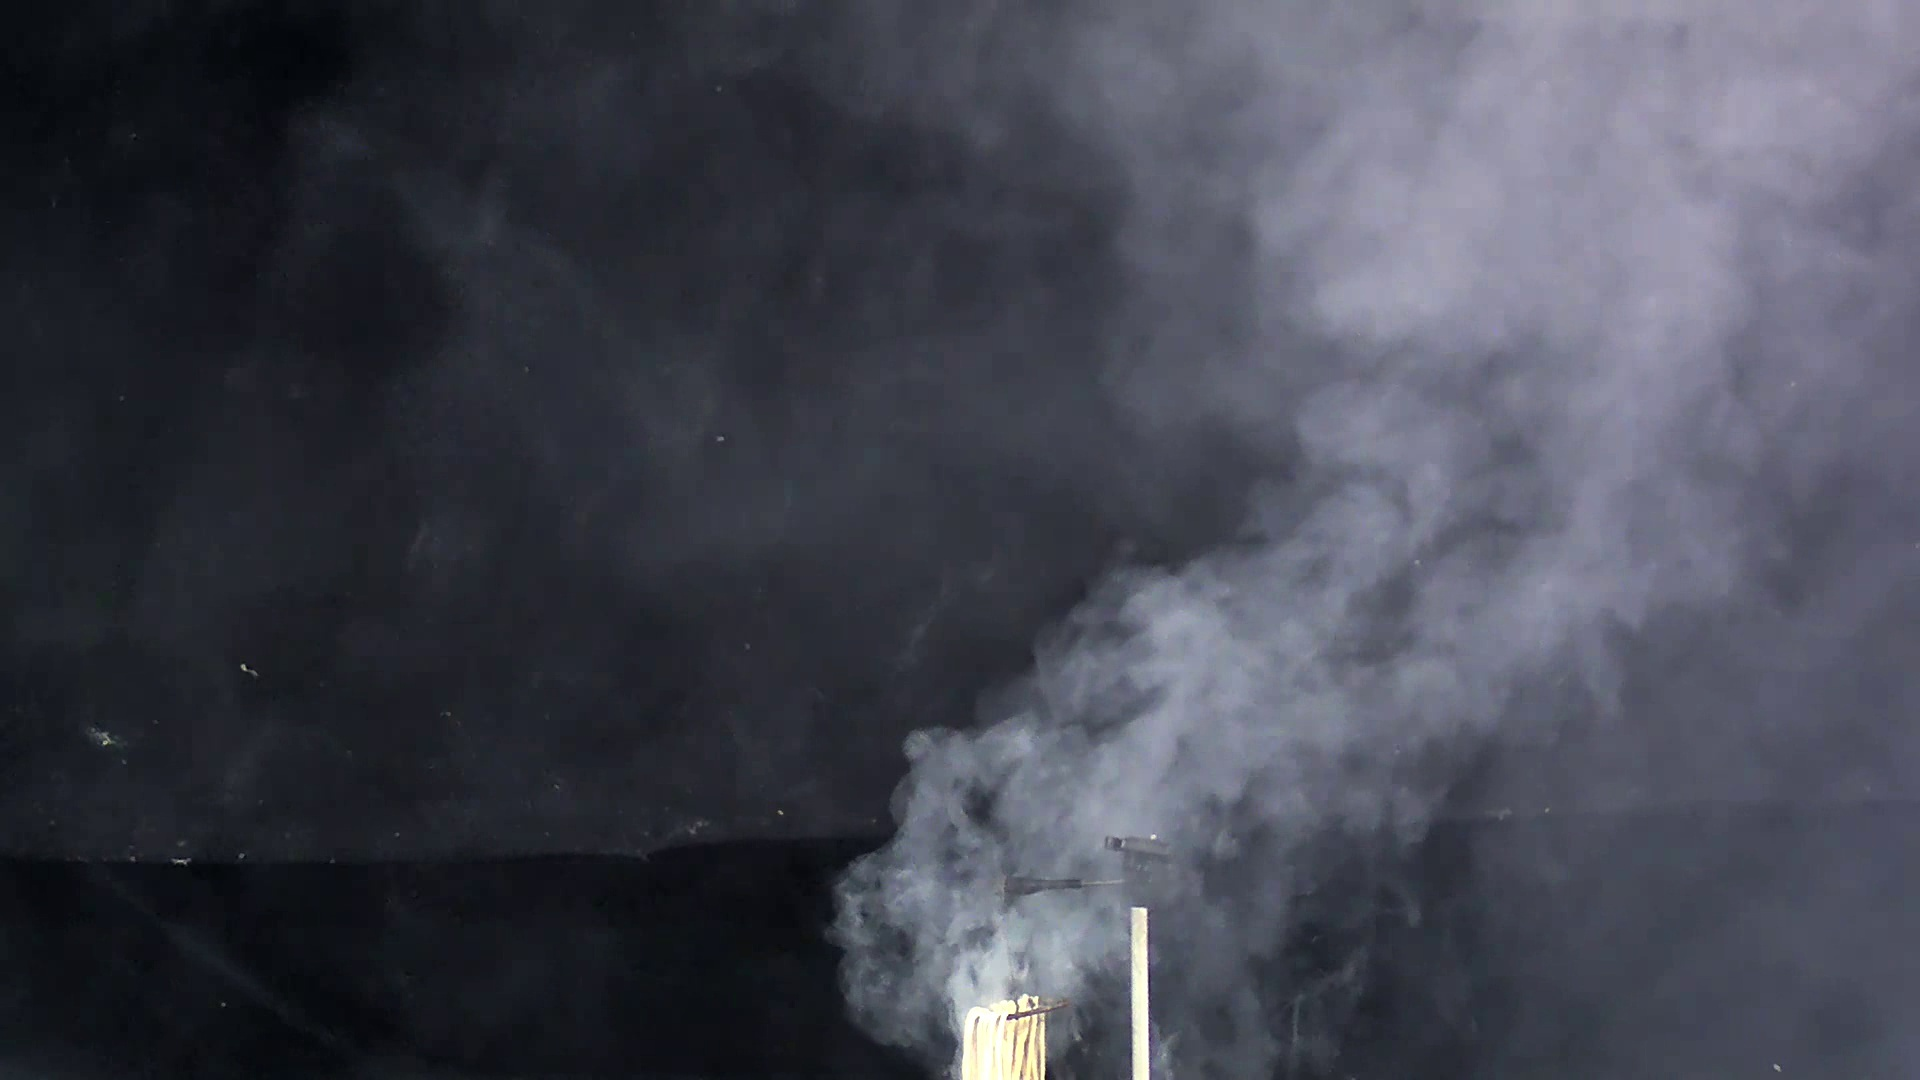smoke: (818, 493, 1627, 1058)
